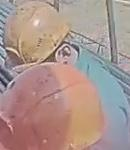helmet: (0, 61, 105, 149), (3, 0, 70, 67)
